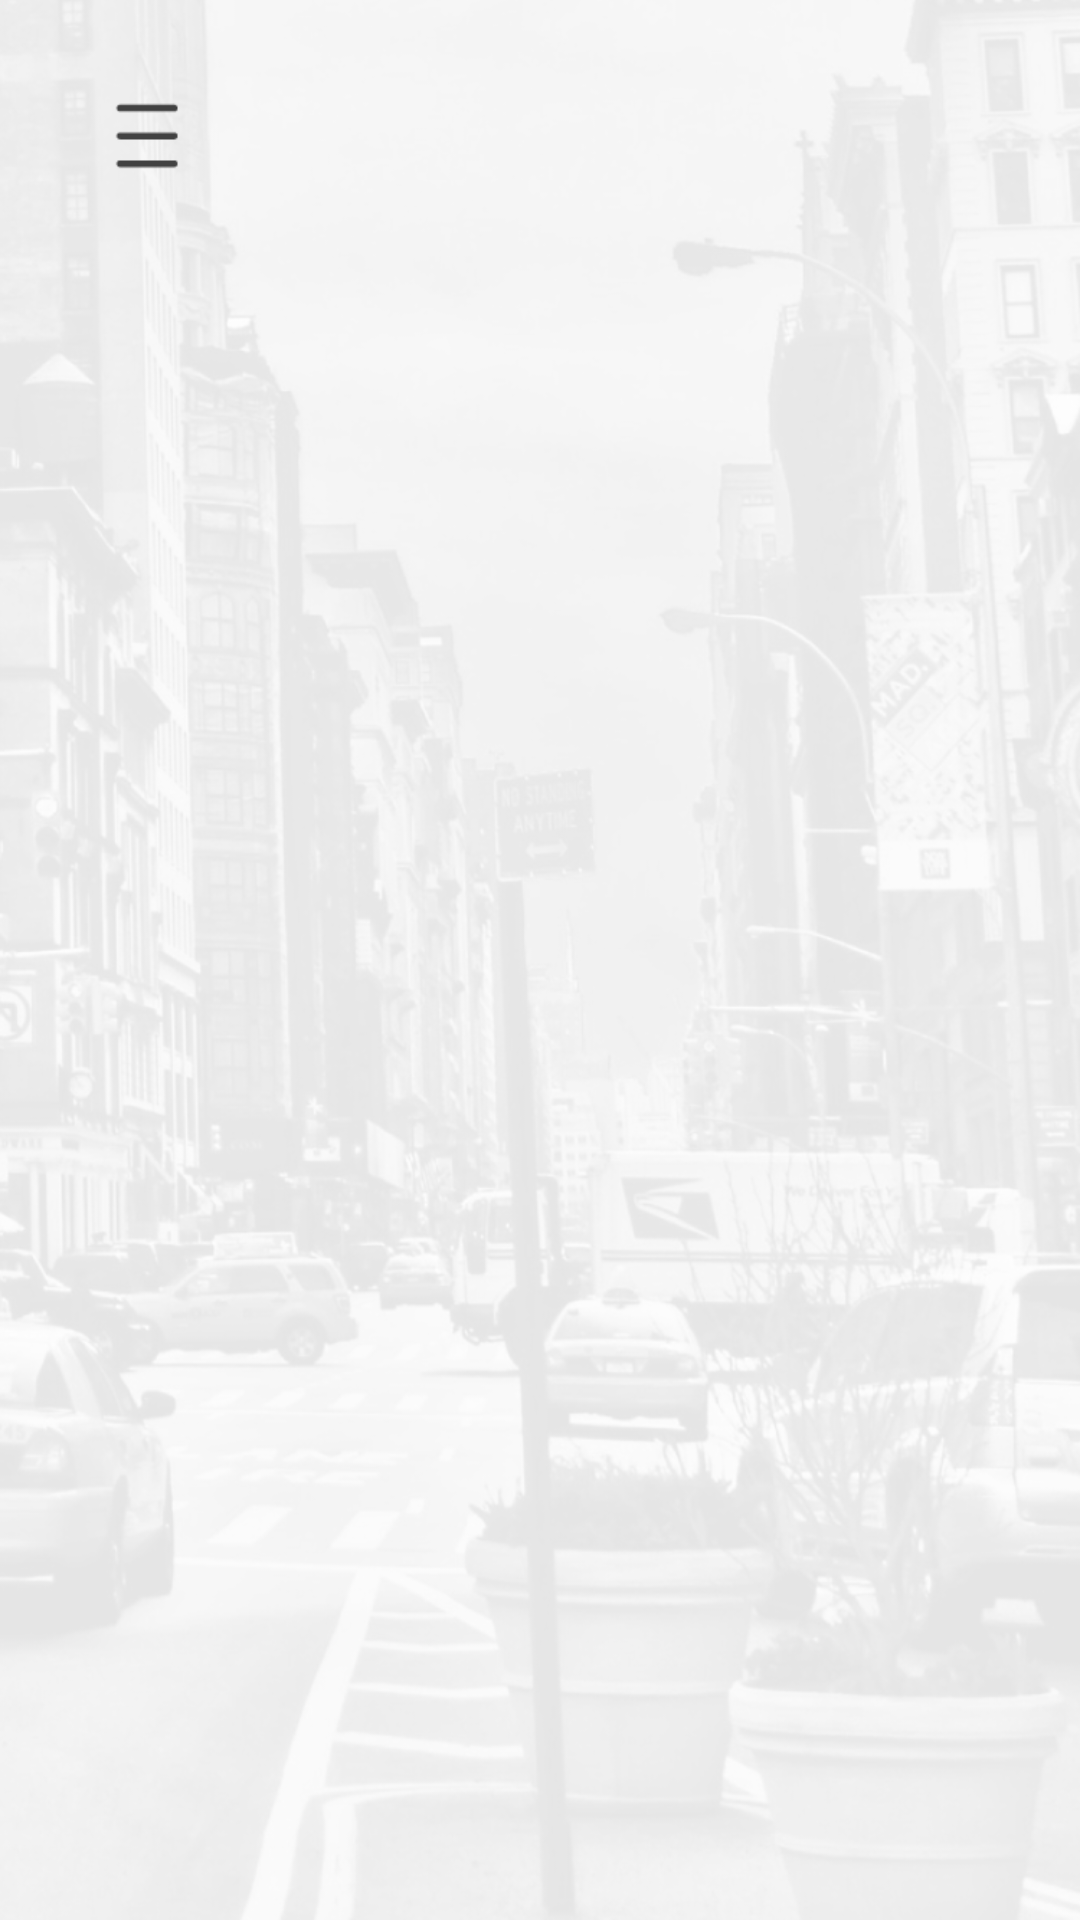

Icon click points for this 1080w x 1920h phone screenshot, format (x=x, y=y):
menu: (x=147, y=135)
